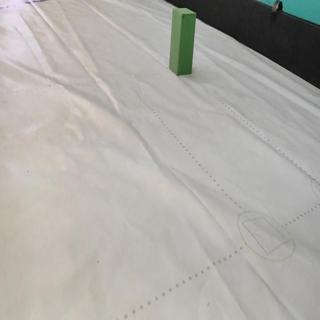greenbox: (169, 8, 199, 75)
